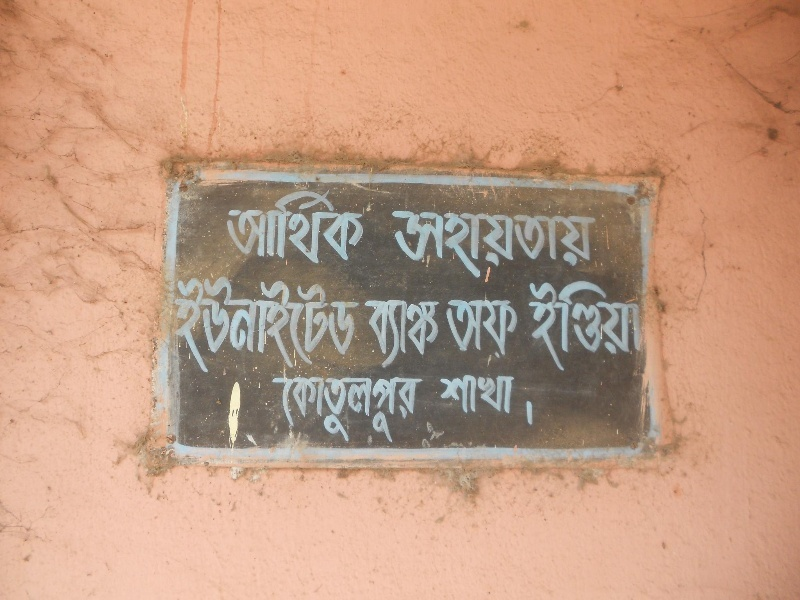text: (177, 273, 192, 376), (193, 273, 208, 376), (209, 273, 224, 376), (225, 273, 240, 376), (241, 273, 256, 376), (257, 273, 272, 376), (273, 273, 288, 376), (289, 273, 304, 376), (305, 273, 320, 376), (321, 273, 336, 376), (337, 273, 352, 376), (529, 280, 544, 374), (545, 280, 560, 374), (561, 280, 576, 374), (577, 280, 592, 374), (593, 280, 608, 374), (609, 280, 624, 374), (625, 280, 640, 374), (241, 186, 256, 266), (257, 186, 272, 266), (273, 186, 288, 266), (289, 186, 304, 266), (305, 186, 320, 266), (321, 186, 336, 266), (337, 186, 352, 266), (369, 297, 384, 369), (385, 297, 400, 369), (401, 297, 416, 369), (417, 297, 432, 369), (401, 208, 416, 279), (417, 208, 432, 279), (433, 208, 448, 279), (449, 208, 464, 279), (465, 208, 480, 279), (481, 208, 496, 279), (497, 208, 512, 279), (513, 208, 528, 279), (529, 208, 544, 279), (545, 208, 560, 279), (561, 208, 576, 279), (577, 208, 592, 279), (273, 374, 288, 444), (289, 374, 304, 444), (305, 374, 320, 444), (321, 374, 336, 444), (337, 374, 352, 444), (353, 374, 368, 444), (369, 374, 384, 444), (385, 374, 400, 444), (401, 374, 416, 444), (227, 186, 240, 266), (353, 186, 366, 266), (353, 273, 362, 376), (227, 380, 240, 449), (449, 298, 464, 357), (465, 298, 480, 357), (481, 298, 496, 357), (497, 298, 512, 357), (417, 374, 426, 444), (449, 374, 464, 416), (465, 374, 480, 416), (481, 374, 496, 416), (497, 374, 512, 416), (392, 208, 400, 279), (171, 273, 176, 376), (433, 297, 440, 369), (513, 298, 521, 357), (440, 374, 448, 416), (364, 297, 368, 369), (241, 380, 245, 449), (593, 208, 596, 279), (641, 280, 643, 374), (513, 374, 515, 416), (529, 402, 532, 425), (447, 298, 448, 357), (527, 402, 528, 425)
